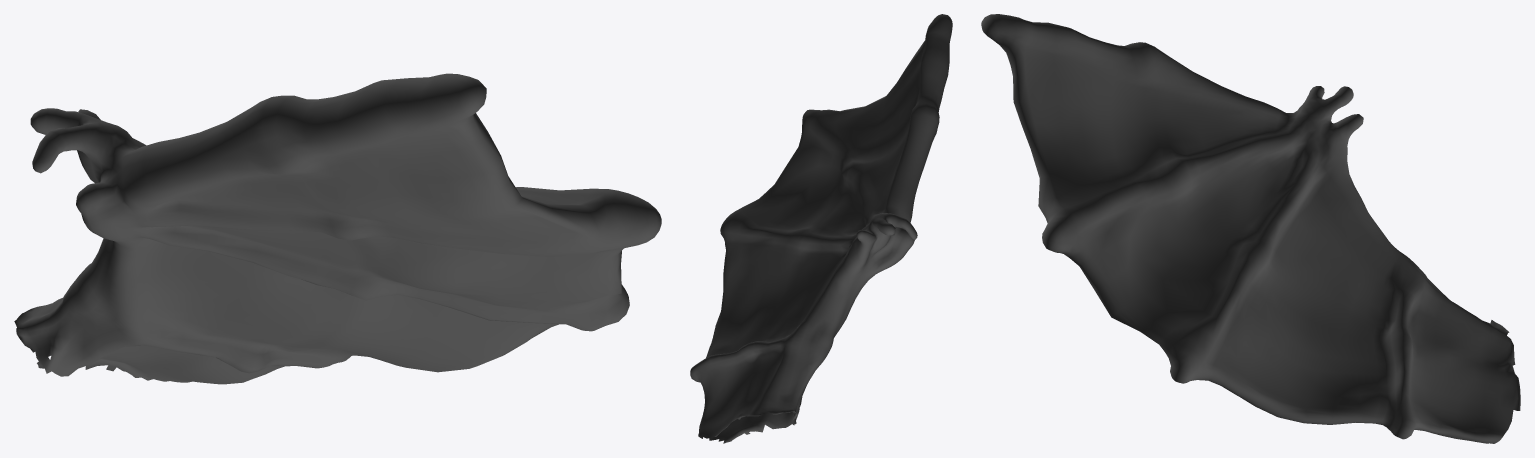
Rendered from AlaIzquierda.obj.
The picture shows the model from 3 angles, left to right: view 1: azimuth 30°, elevation 25°; view 2: azimuth 150°, elevation 25°; view 3: azimuth 270°, elevation 25°; orthographic projection. The views are drawn at different scales.
Visible parts, largest first — view 1: AlaIzquierda; view 2: AlaIzquierda; view 3: AlaIzquierda.
Part boxes in pixels (x1,y1,x2,y2): AlaIzquierda: (14, 73, 661, 384); AlaIzquierda: (690, 14, 952, 443); AlaIzquierda: (981, 14, 1520, 443).
Bounding box in the file's own units: 6.31 × 7.34 × 9.03.
Materials: 1 (1 with a texture image).
